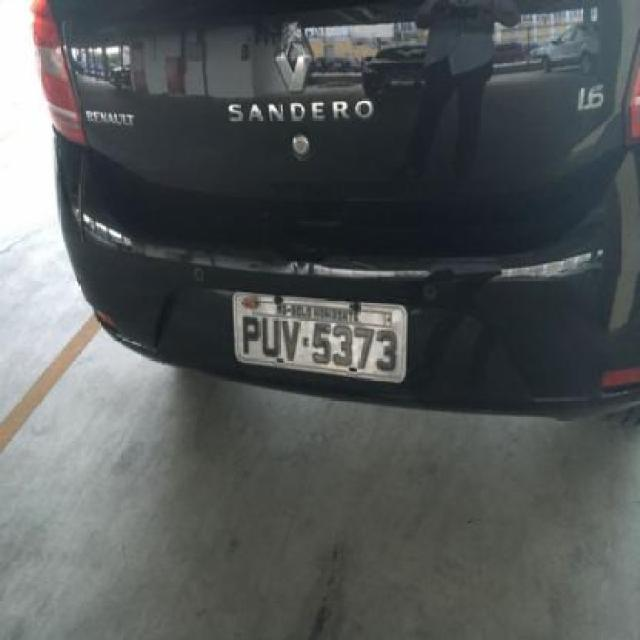old_plate: (228, 286, 414, 389)
